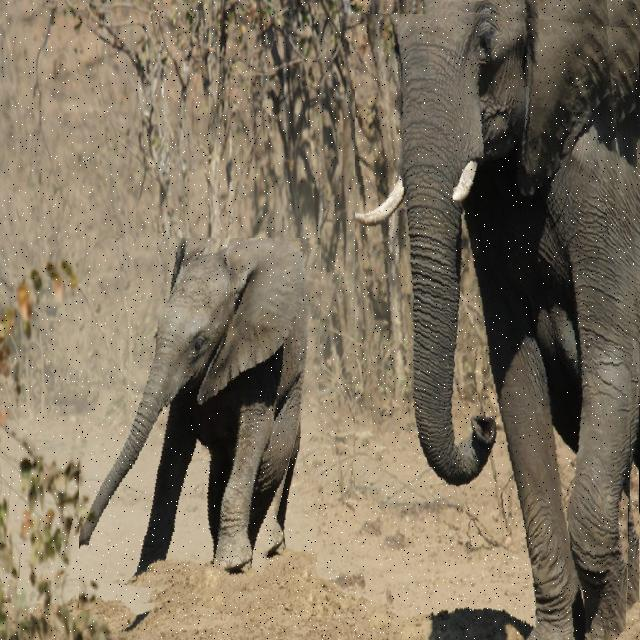elephant: (355, 0, 640, 640), (79, 238, 322, 611)
